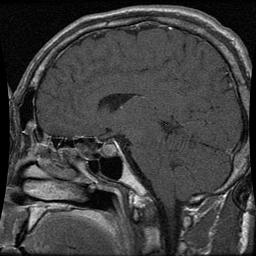Pituirity_tumour: (98, 141, 117, 156)
